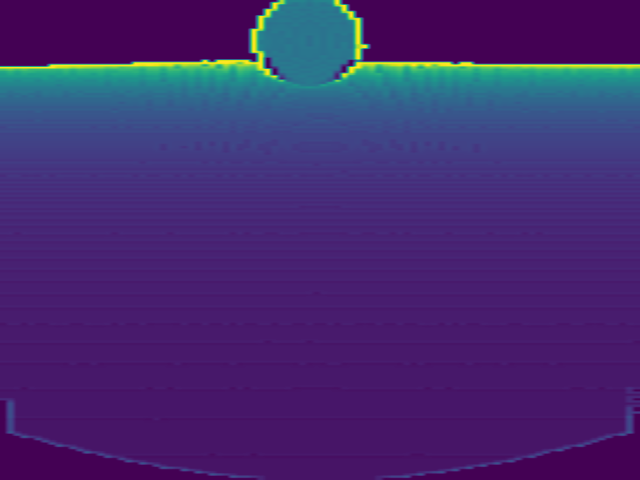sphere: (249, 1, 365, 88)
